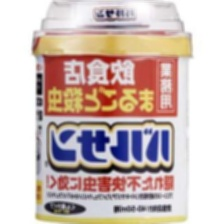insecticide: (28, 0, 195, 224)
